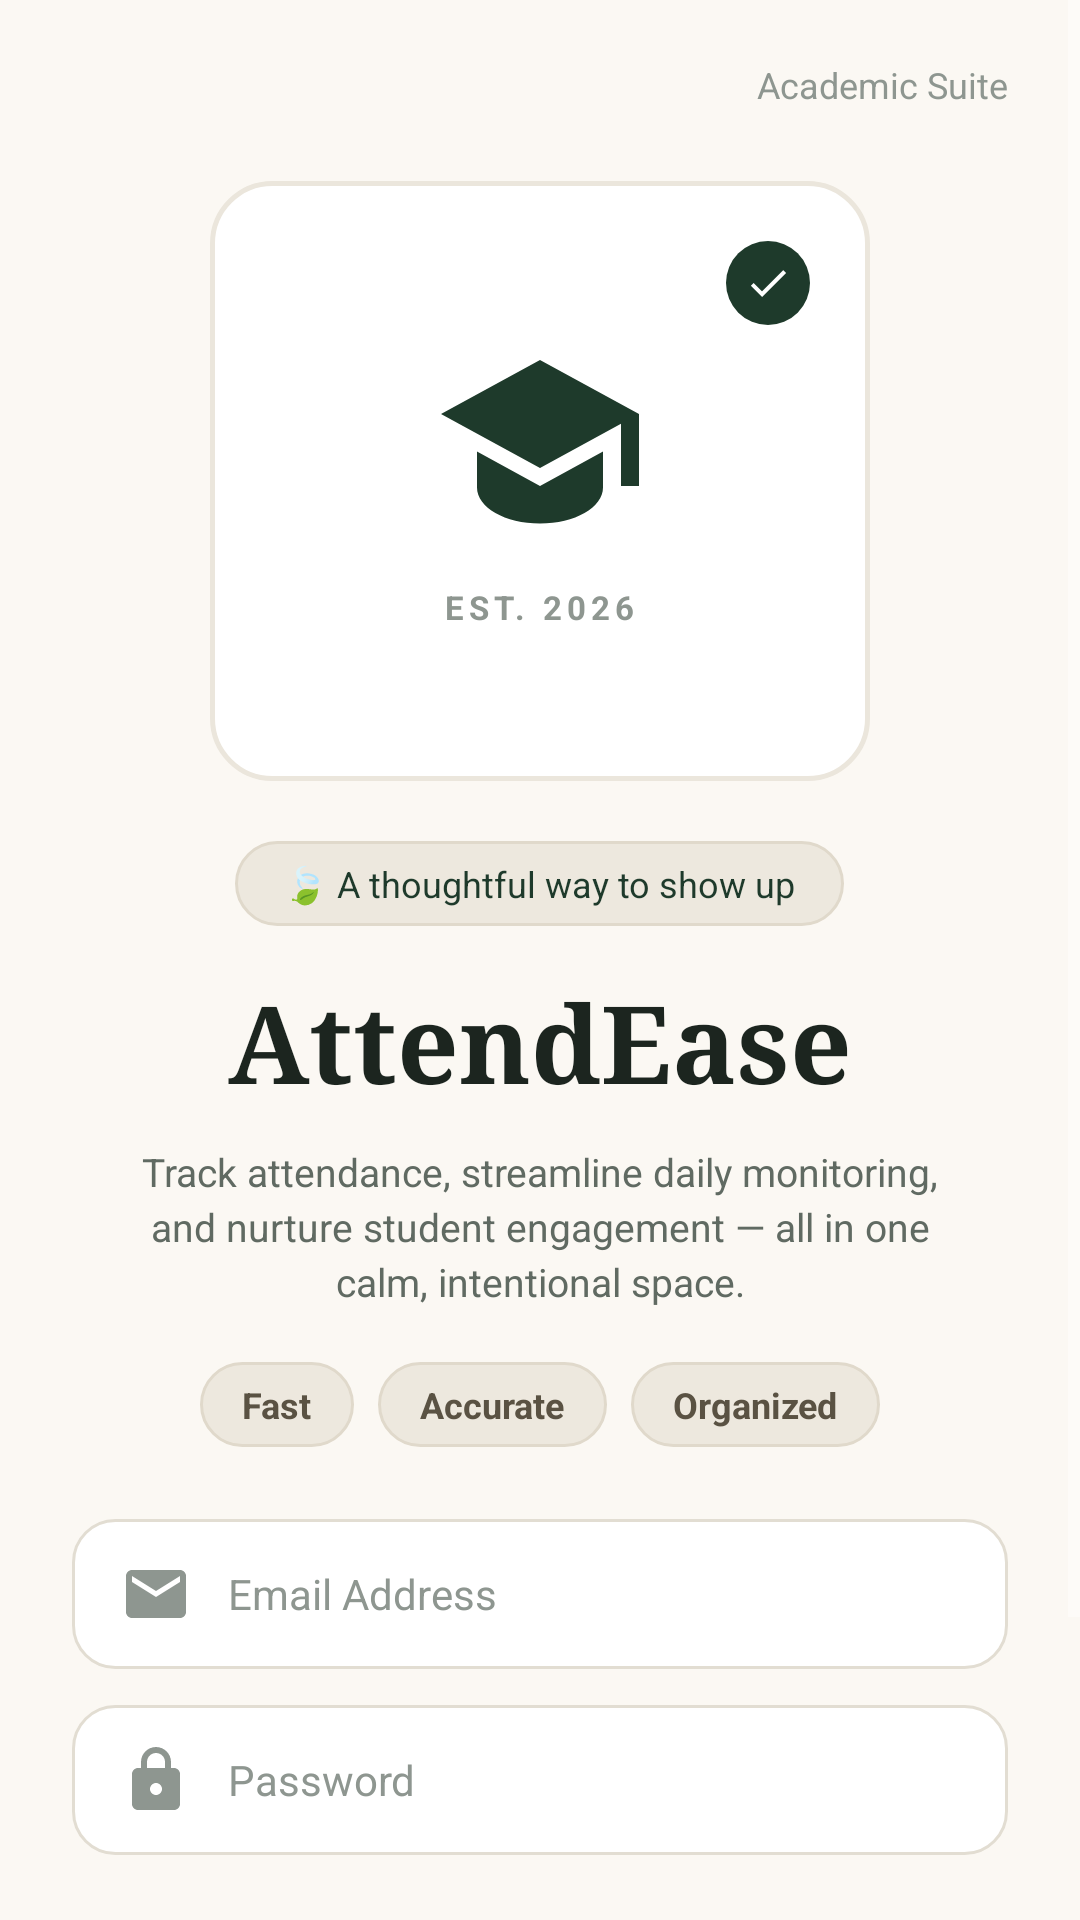

Point at icon controls on the screen. Image size 1080 x 1920, points as [x,y].
Checkmark: [768,283]
Graduation Cap: [540,442]
